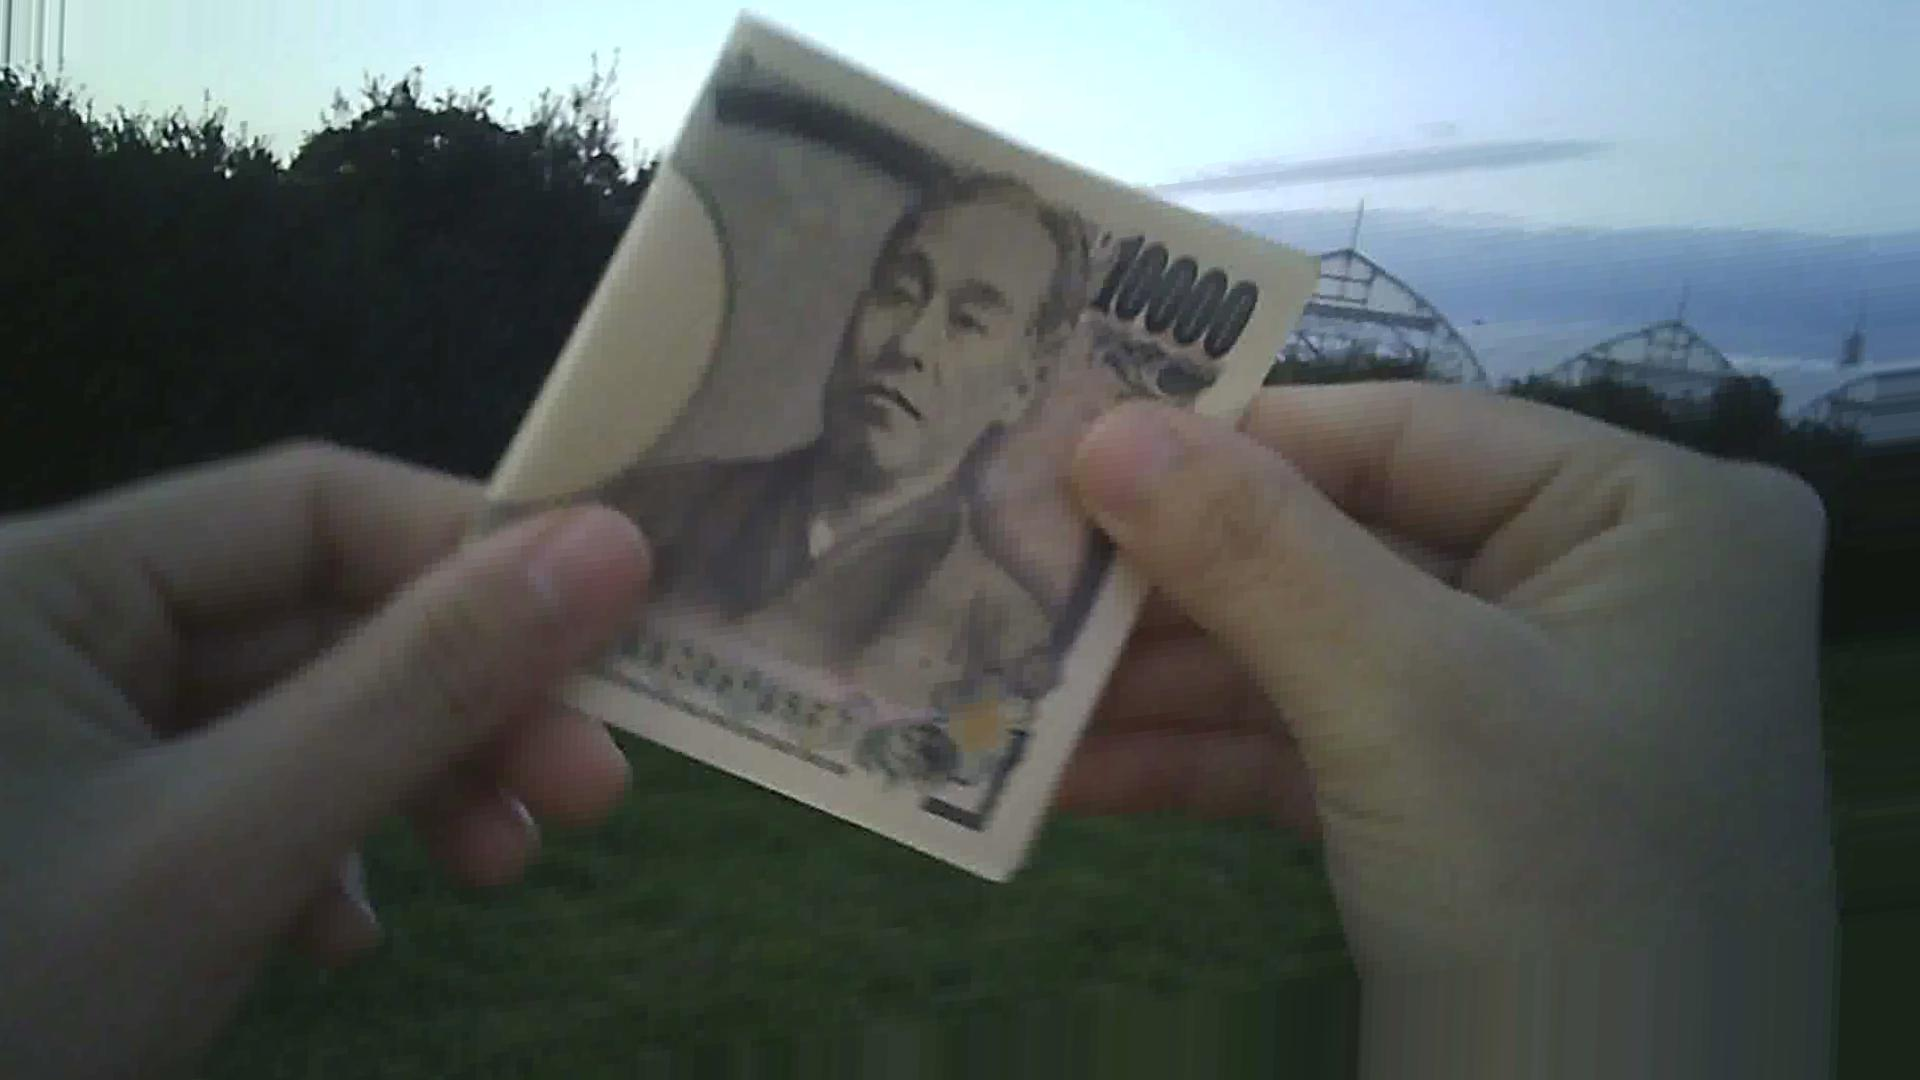10,000 Yen: (405, 11, 1315, 913)
